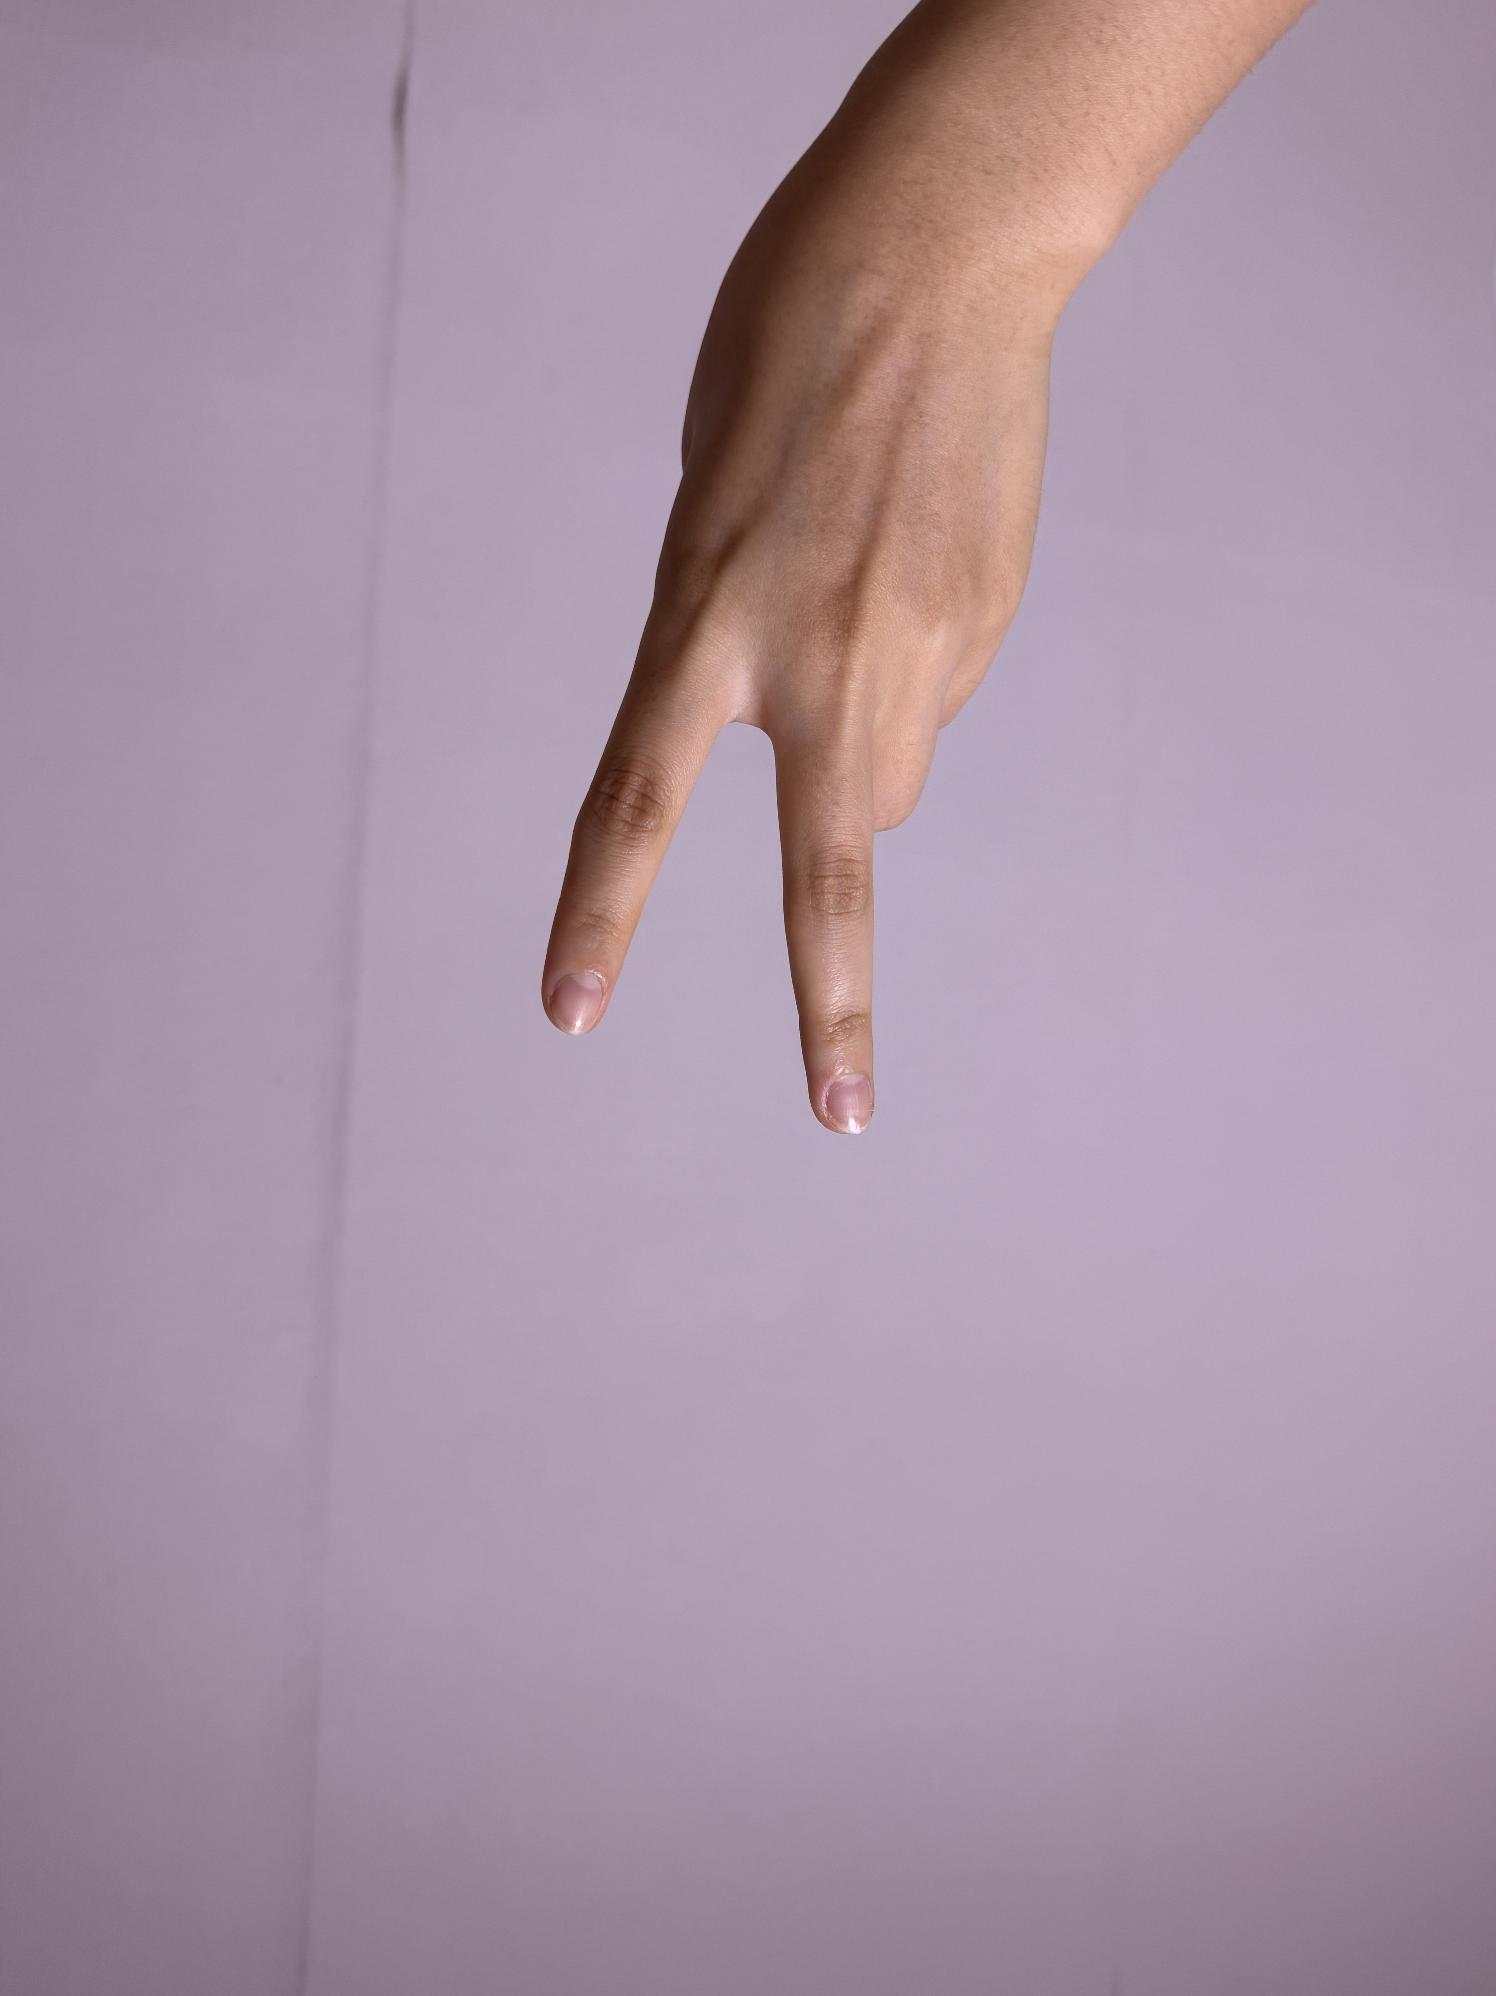v: (525, 109, 1070, 1166)
